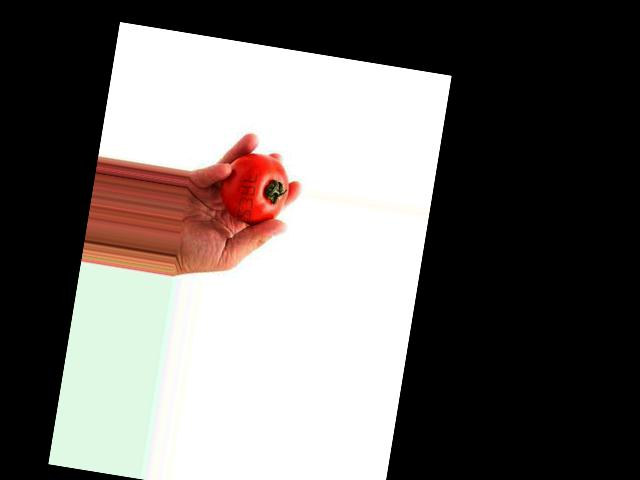tomato: (215, 148, 293, 228)
